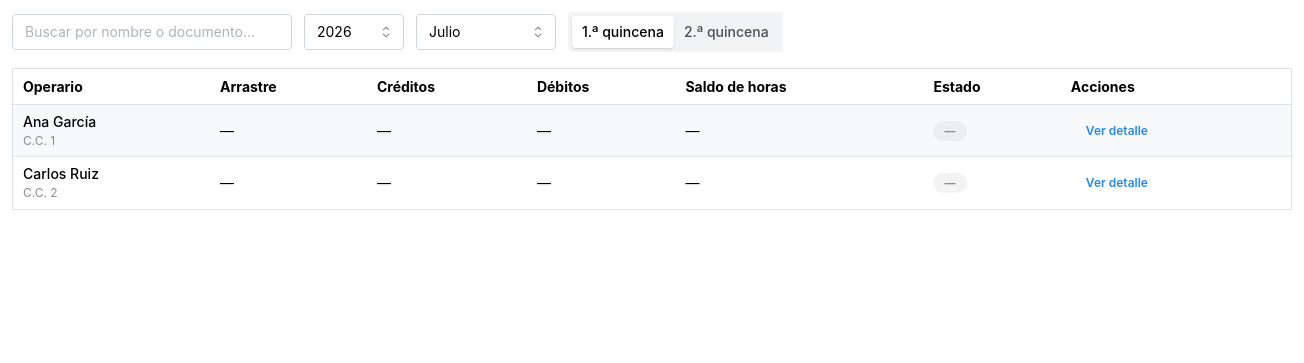
BalancePanel › shows the close period button for TALENTO_HUMANO once an operario is selected
Click the button "Ver detalle" in the row of "Ana García": (1117, 131) top-left (1071, 116), bottom-right (1163, 146)
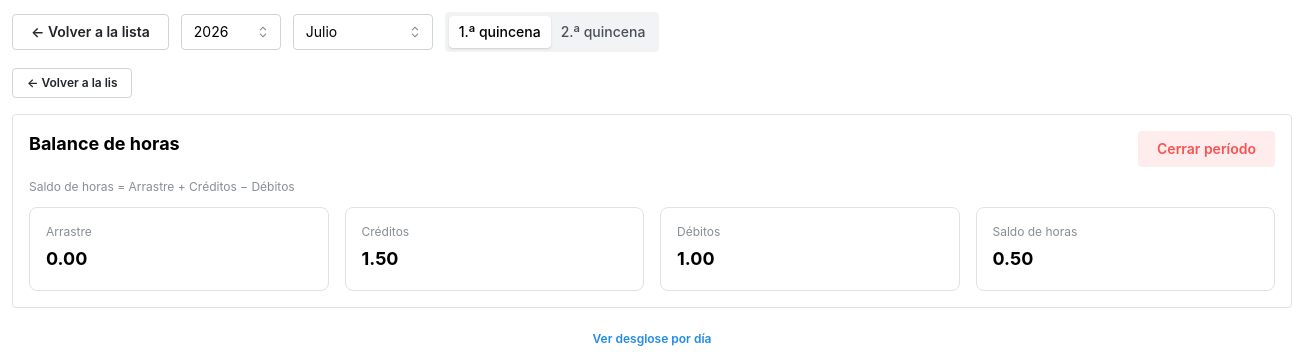
Result: the button with test id "close-period-btn" is shown at top-left (1138, 131), bottom-right (1275, 167)
